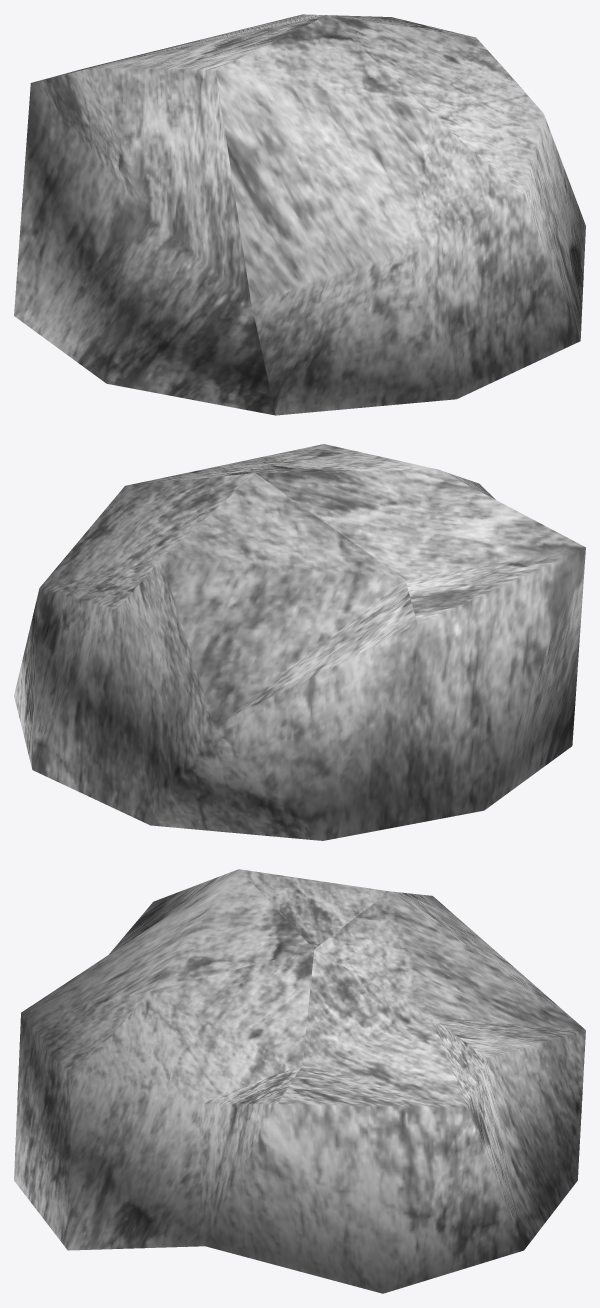
The model's file is SRockLowPoly.fbx.
3 views of the same model, one above another, from view 1: azimuth 30°, elevation 25°; view 2: azimuth 150°, elevation 25°; view 3: azimuth 270°, elevation 25° (orthographic). The views are drawn at different scales.
Parts seen in each view (by area): view 1: Icosphere.002; view 2: Icosphere.002; view 3: Icosphere.002.
Boxes of the visible parts, <box> form: Icosphere.002: <box>14,14,585,415</box>; Icosphere.002: <box>14,444,585,840</box>; Icosphere.002: <box>14,869,585,1293</box>.
Size of the model in its own units: 150 by 78.7 by 160.
